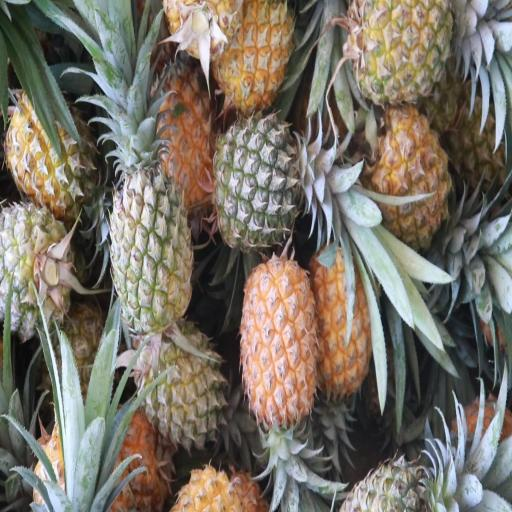------------------------------: (110, 142, 192, 325), (351, 0, 454, 101), (6, 90, 92, 207), (136, 328, 221, 444)
Pineapple - v8 v1: (240, 259, 318, 424), (374, 111, 452, 241), (312, 248, 377, 401), (219, 0, 297, 110), (158, 67, 215, 208)
